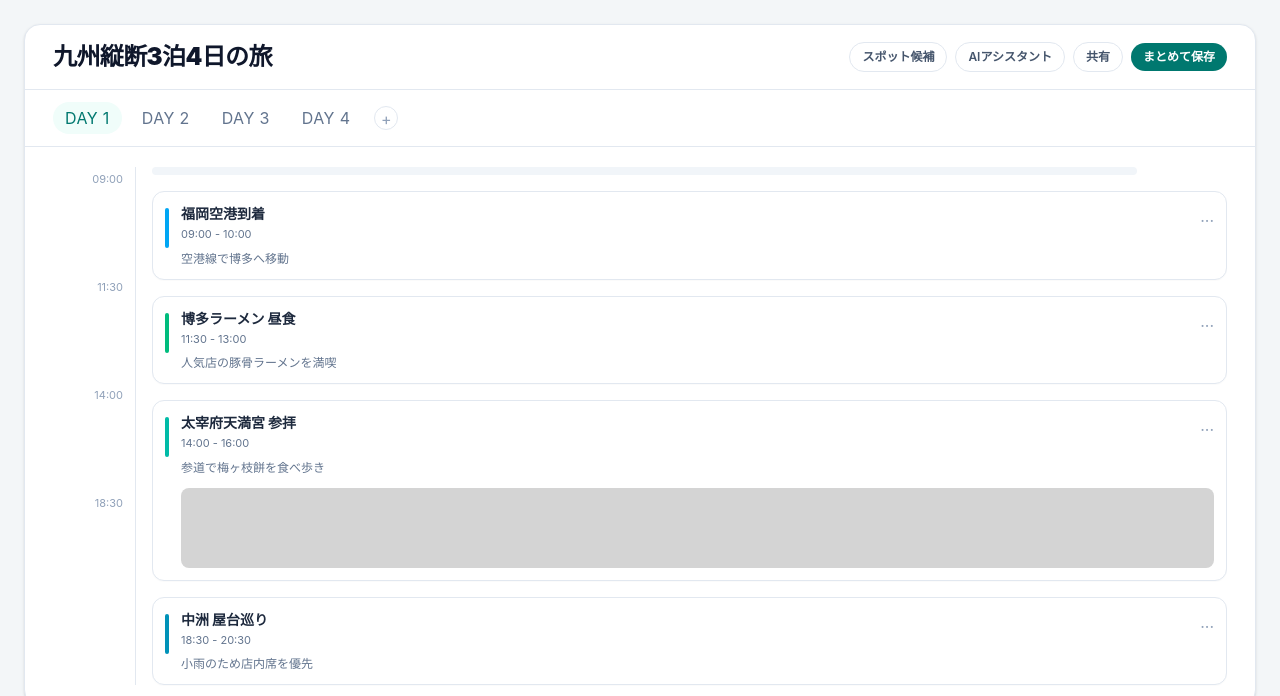
Scenario: AI旅程作成フロー › ホームのAIアシスタントから入力画面へ遷移する
The width and height of the screenshot is (1280, 696).
Click the button "AIアシスタント". click: [1010, 57]
box: [955,42,1065,72]
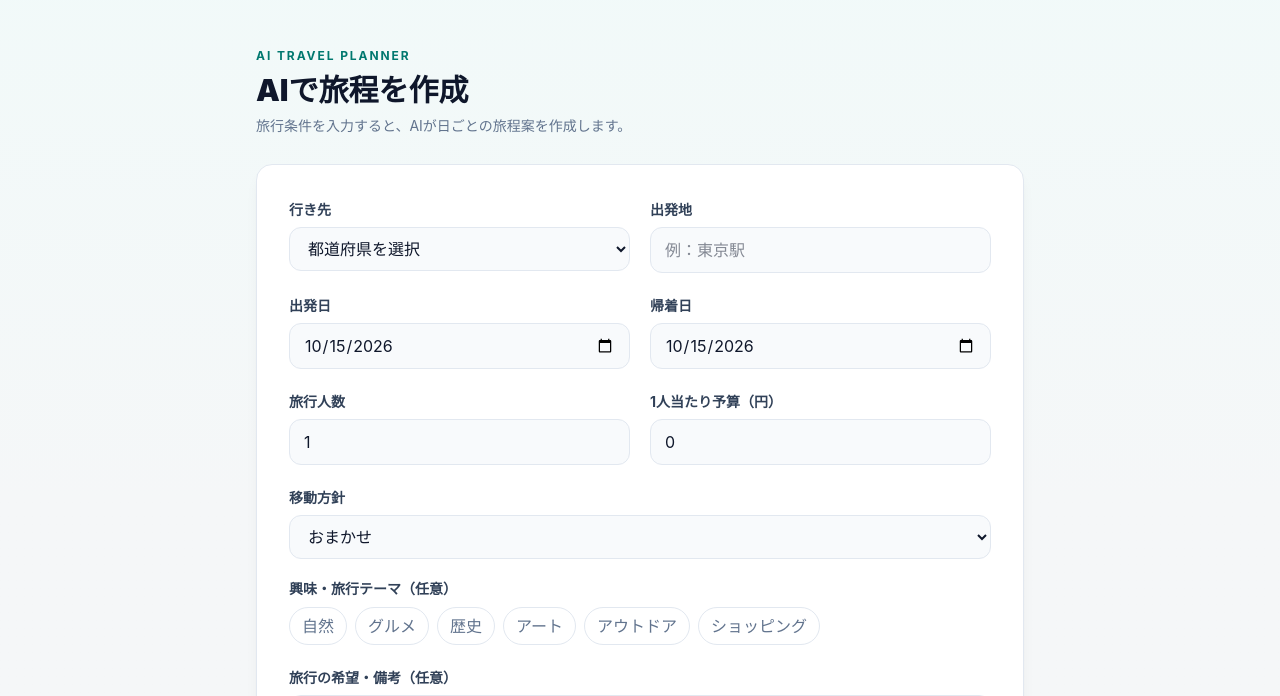
Check: the heading "AIで旅程を作成" is shown, box [256,72,469,108]
